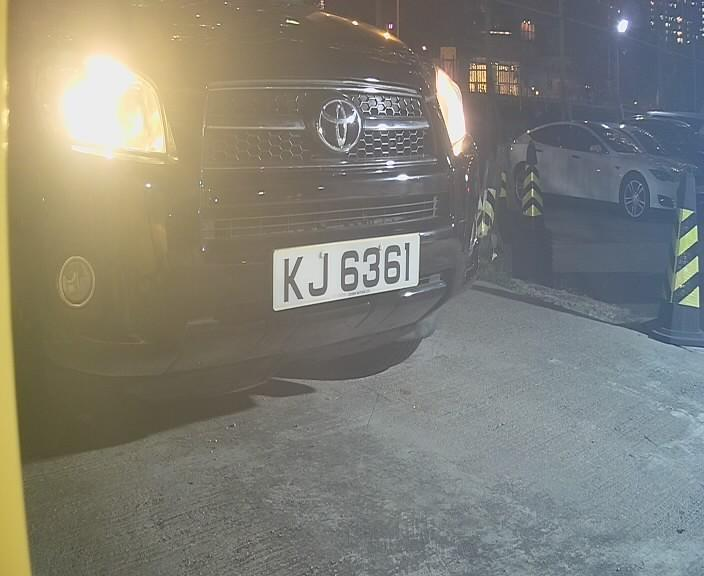Car: (26, 8, 547, 425)
License Plate: (260, 224, 425, 321)
